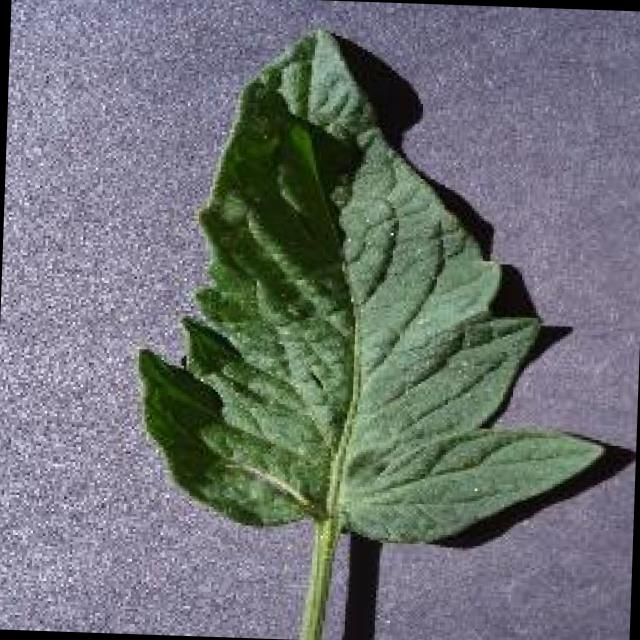Tomato_Healthy: (113, 6, 627, 582)
